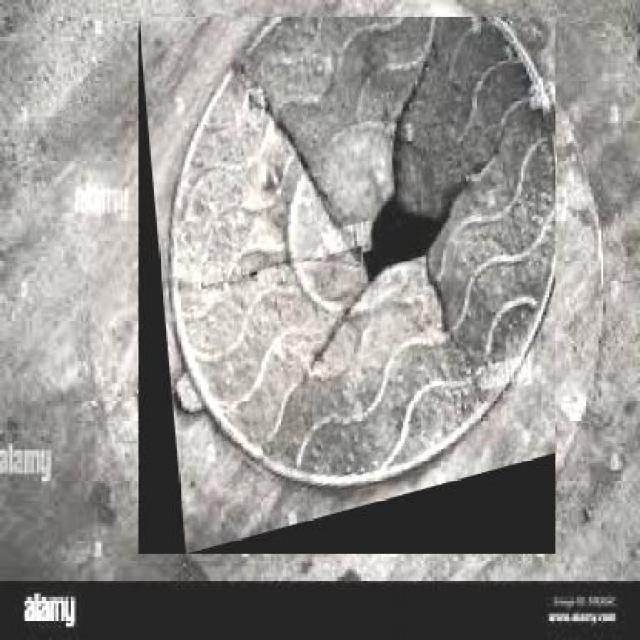Manhole: (138, 17, 556, 554)
Pothole: (356, 194, 446, 278)
